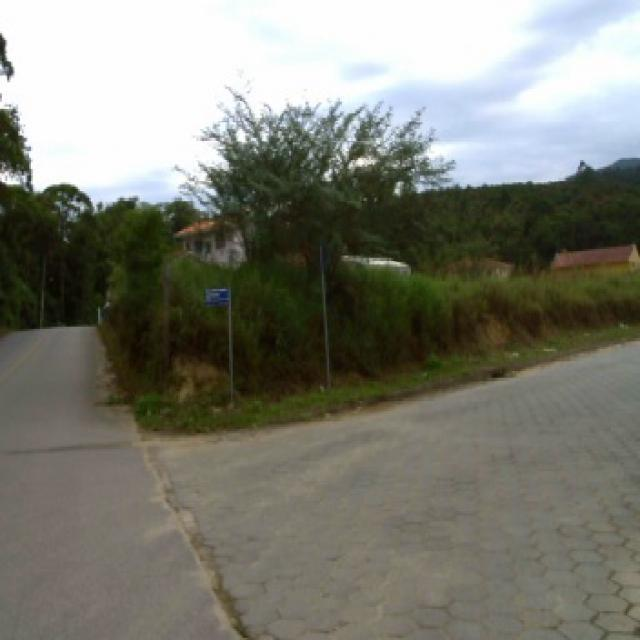Poth-hole: (152, 464, 256, 636), (5, 438, 130, 451), (488, 367, 506, 378)
